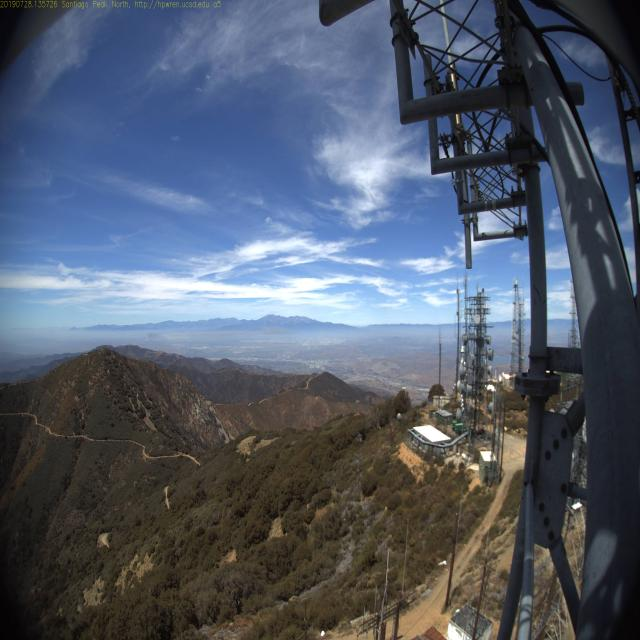smoke: (138, 320, 166, 354)
